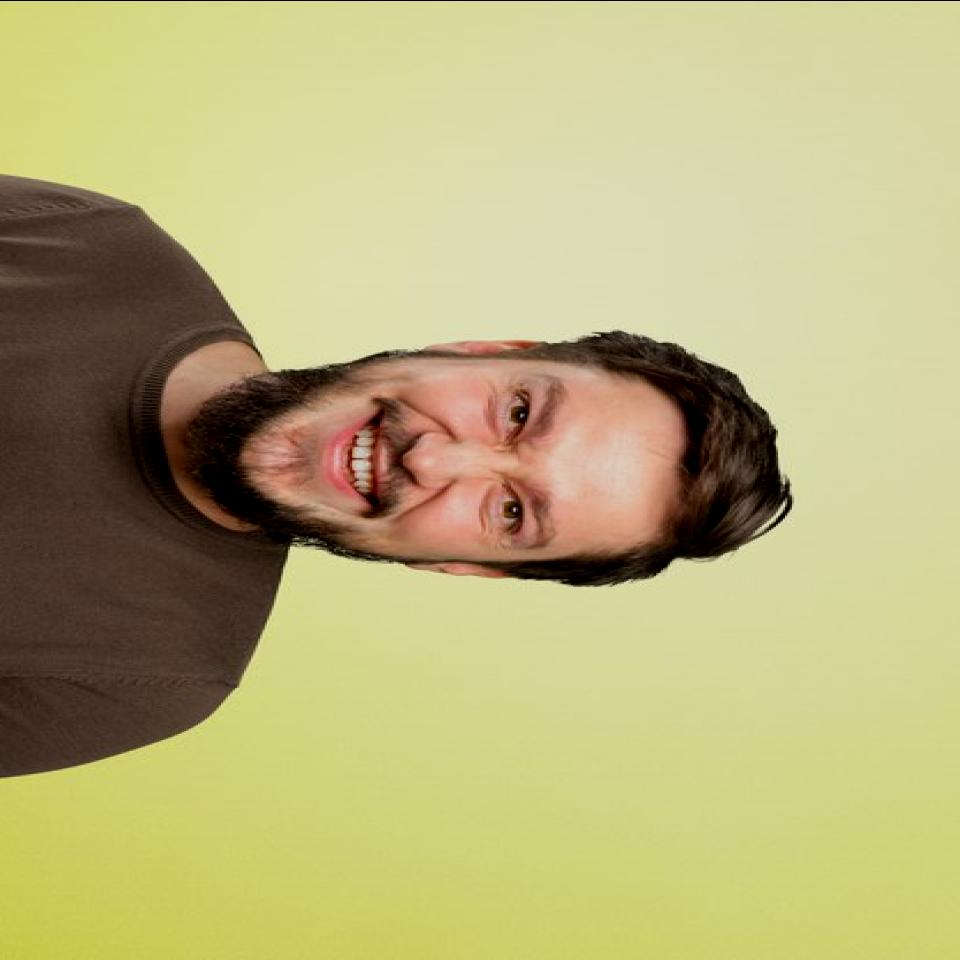Happiness: (239, 341, 699, 579)
